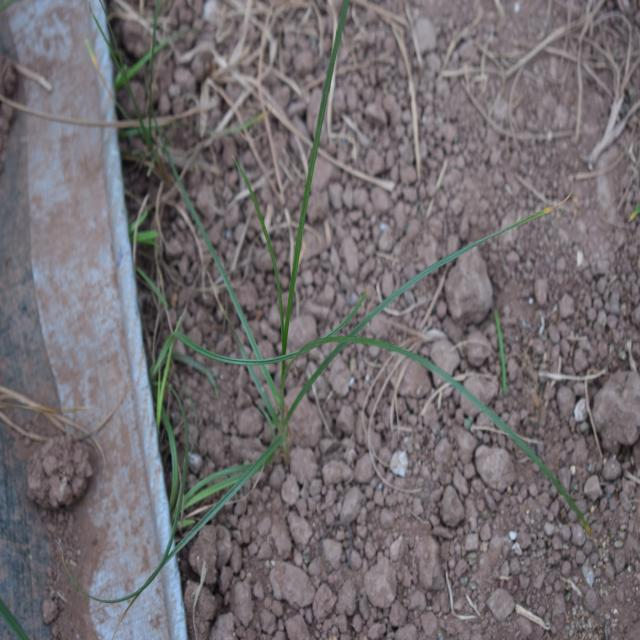sedge: (127, 83, 525, 563)
